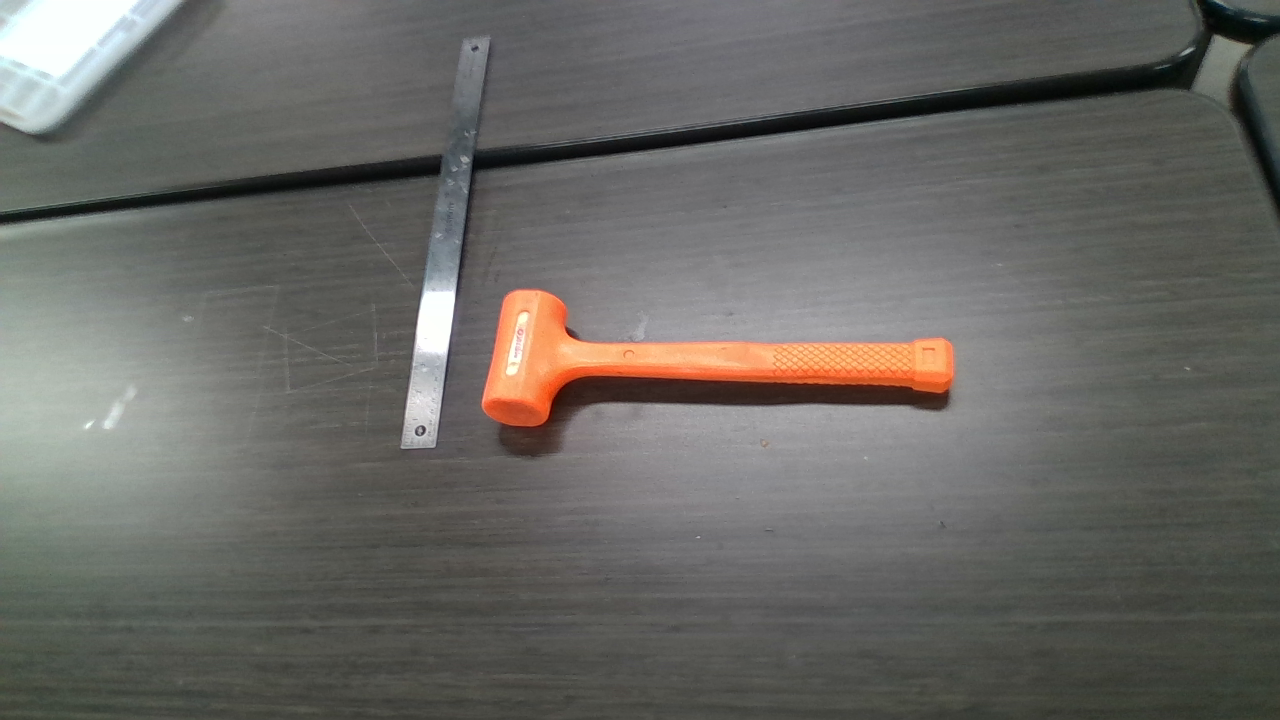Orange Hammer: (483, 291, 952, 426)
